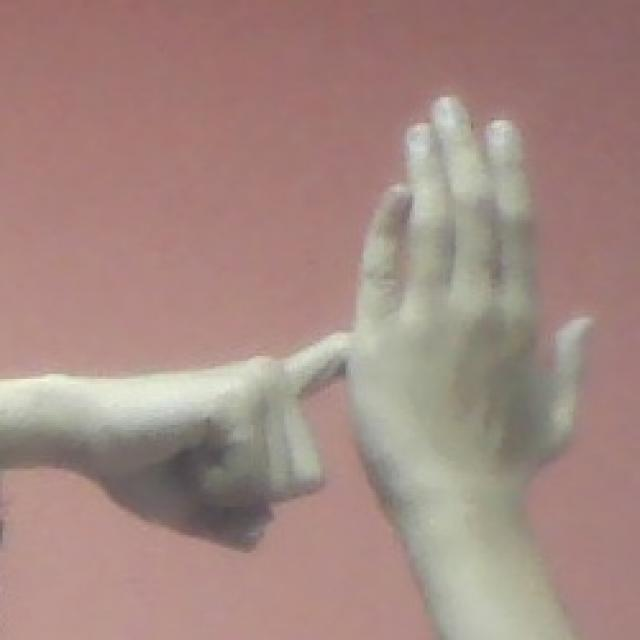Alphabet-R: (106, 11, 595, 626)
